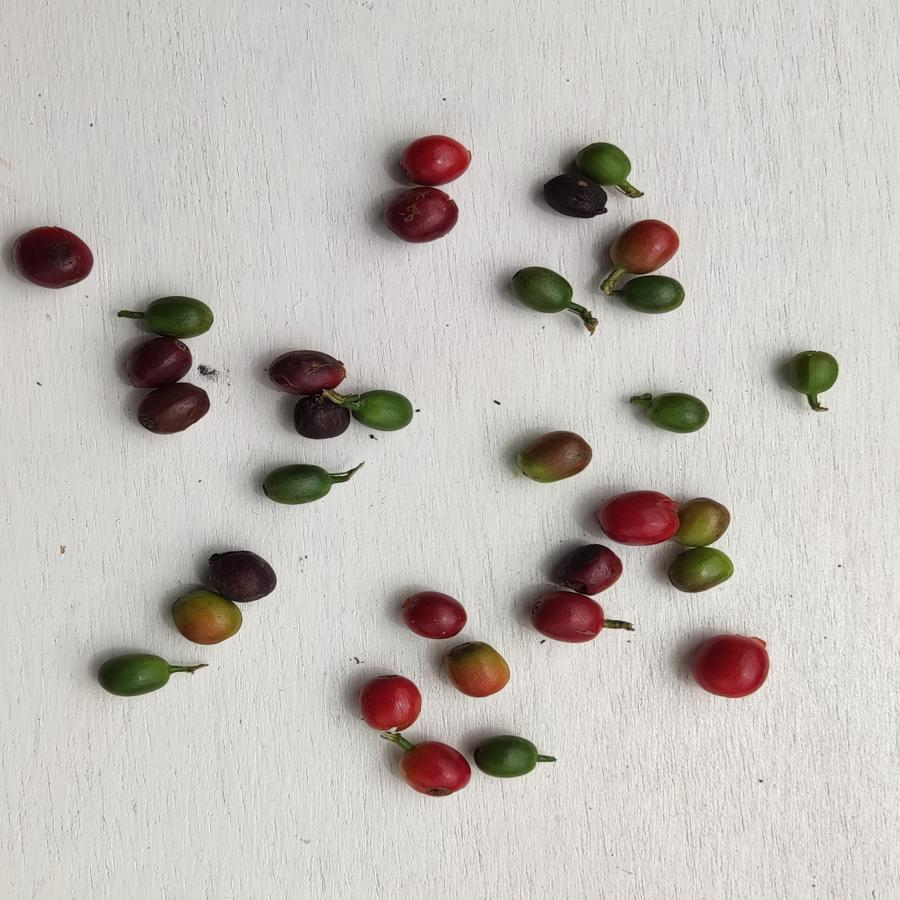Inmaduro: (260, 461, 335, 511), (508, 262, 577, 316), (95, 653, 174, 700), (472, 731, 542, 783), (644, 390, 719, 438), (138, 290, 215, 336), (350, 386, 417, 437), (612, 272, 684, 317), (786, 348, 840, 394), (575, 142, 630, 186)
Maduro: (687, 628, 773, 704), (595, 489, 684, 549), (398, 740, 473, 803), (605, 218, 680, 275), (396, 134, 477, 186), (354, 673, 425, 732), (531, 593, 603, 643)
Pinton: (516, 424, 593, 486), (440, 643, 516, 699), (173, 590, 243, 648), (667, 550, 737, 602), (678, 495, 735, 551)
Sobremaduro: (9, 217, 105, 292), (135, 378, 222, 441), (380, 182, 459, 248), (199, 547, 280, 606), (547, 537, 628, 593), (264, 341, 344, 391), (117, 336, 196, 380), (399, 590, 467, 641), (533, 175, 606, 222), (288, 393, 347, 445)
